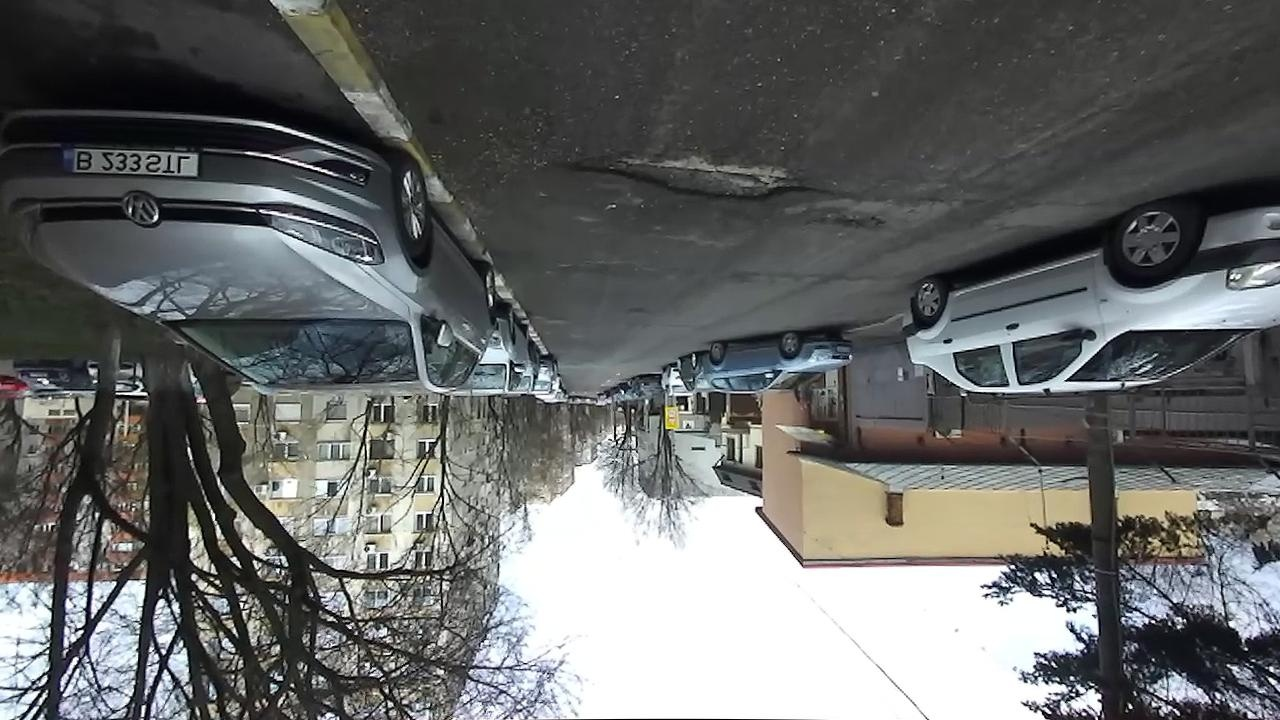pothole: (555, 144, 844, 206), (813, 213, 893, 236)
